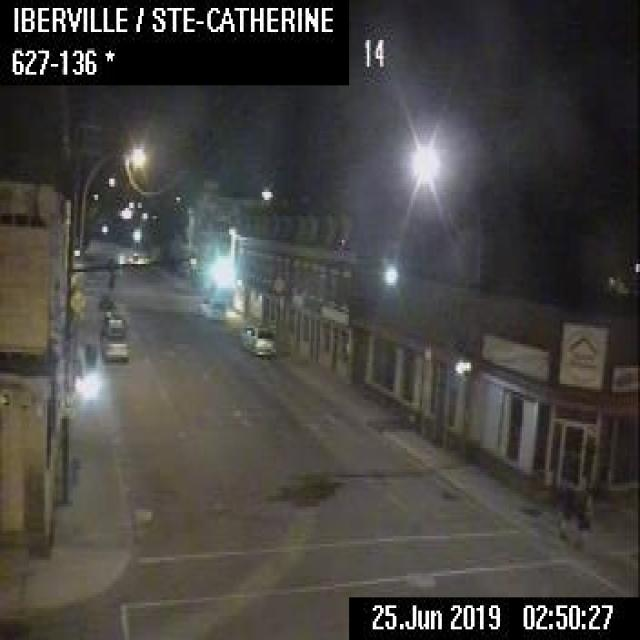construction: (24, 465, 48, 558)
pedestrian: (569, 488, 595, 557), (556, 481, 574, 544)
vehicle: (233, 320, 276, 358), (194, 288, 226, 323), (100, 332, 130, 362), (103, 310, 125, 336)
